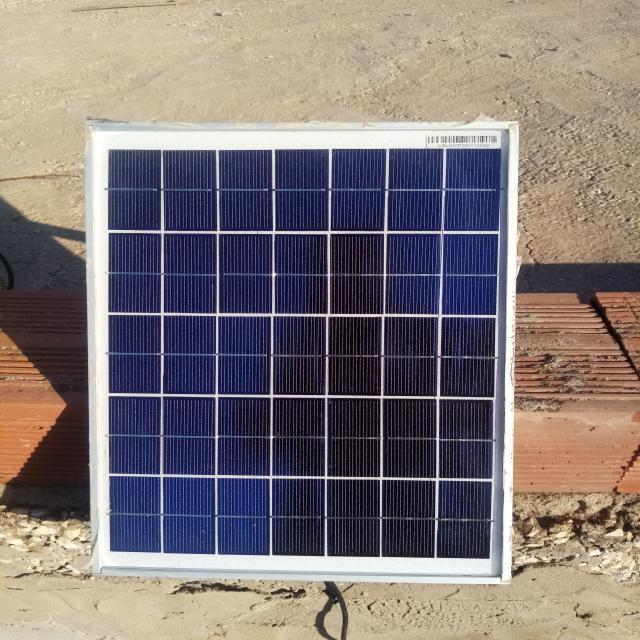Normal Solar Panel: (88, 123, 519, 583)
